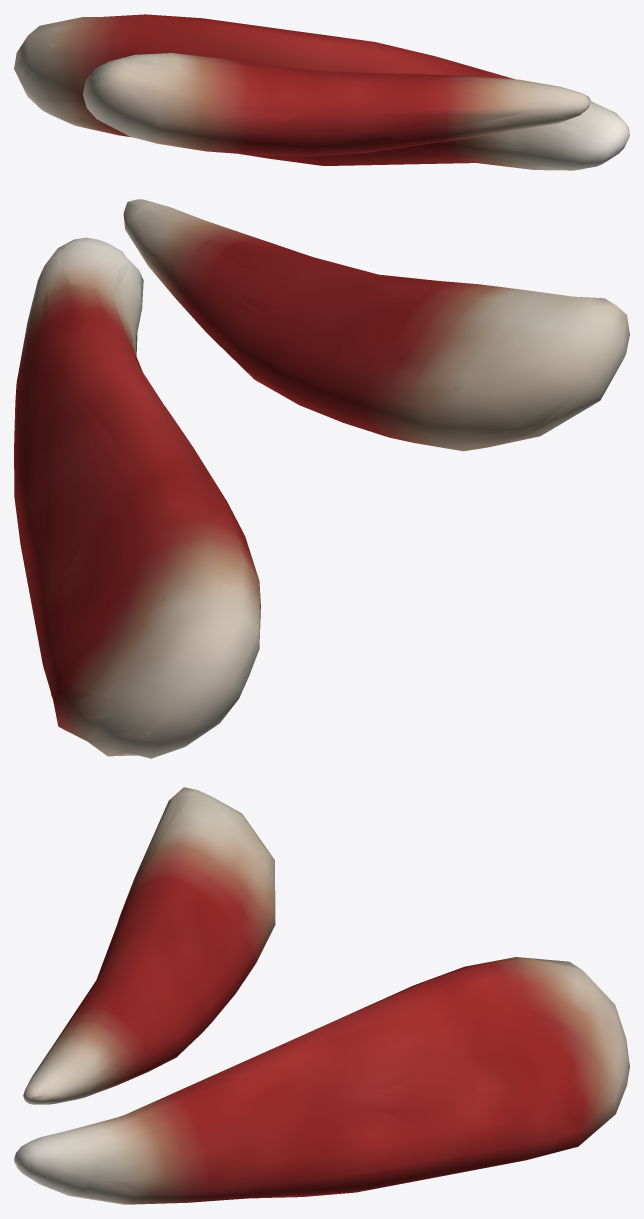
Rendered from L Gemelli.fbx.
3 renders of one model, top to bottom at view 1: azimuth 30°, elevation 25°; view 2: azimuth 150°, elevation 25°; view 3: azimuth 270°, elevation 25°, orthographic. The views are drawn at different scales.
Visible parts, largest first — view 1: L Gemelli, L Gemelli low, L Gemelli high; view 2: L Gemelli, L Gemelli low, L Gemelli high; view 3: L Gemelli, L Gemelli low, L Gemelli high.
Part boxes in pixels (x1,y1,x2,y2): L Gemelli: [14, 14, 629, 170]; L Gemelli low: [14, 15, 614, 169]; L Gemelli high: [20, 16, 623, 168]; L Gemelli: [14, 199, 629, 758]; L Gemelli low: [20, 204, 629, 757]; L Gemelli high: [16, 208, 619, 755]; L Gemelli: [14, 787, 629, 1204]; L Gemelli low: [16, 787, 629, 1204]; L Gemelli high: [17, 790, 623, 1199].
Size of the model in its own units: 1.48 by 0.7031 by 1.53.
